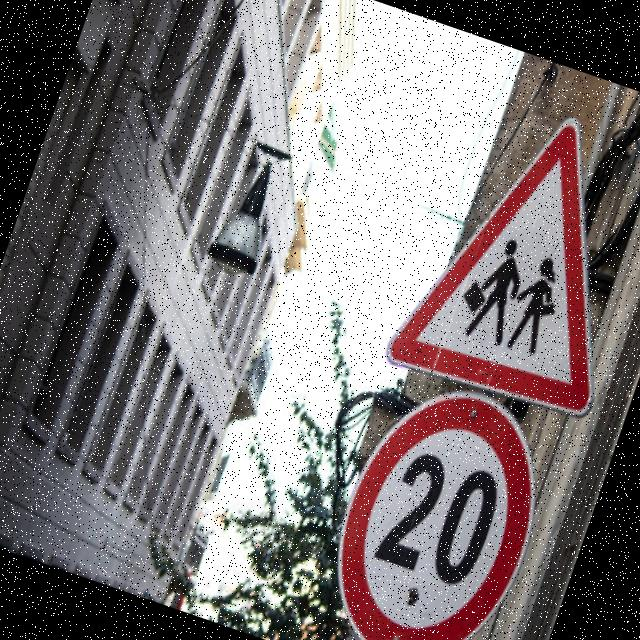speed_limit_20: (299, 361, 572, 640)
